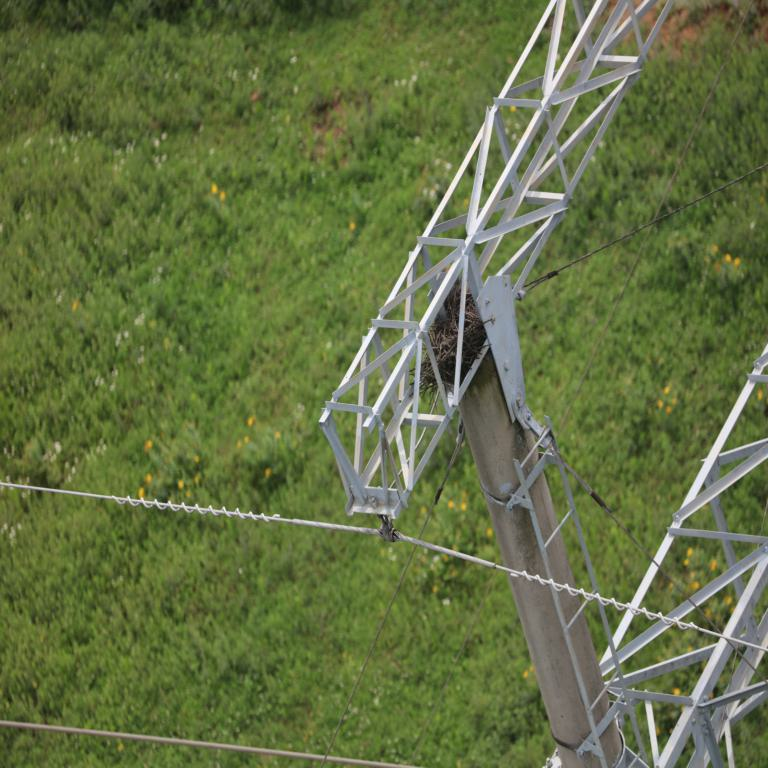nest: (423, 279, 485, 389)
